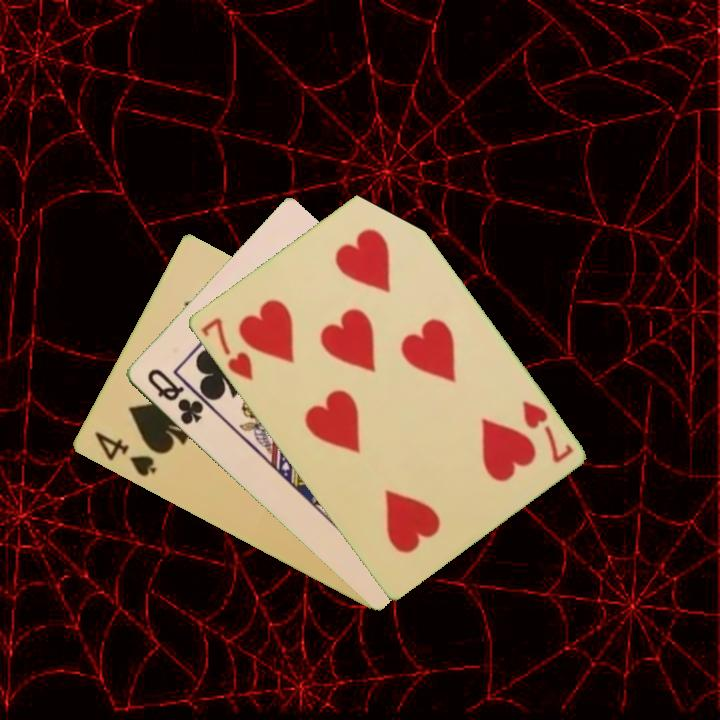4s: (90, 428, 159, 480)
7h: (517, 396, 576, 466), (197, 314, 256, 383)
Qc: (143, 364, 207, 428)
